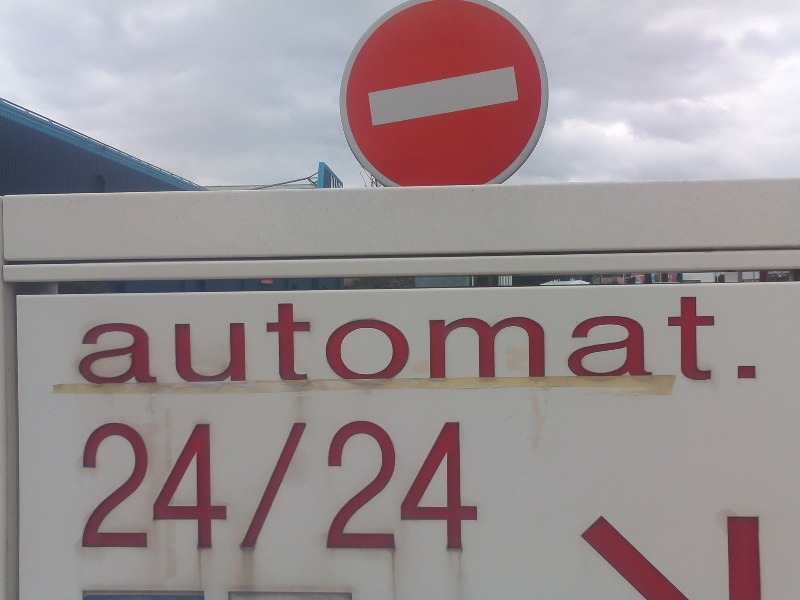text: (97, 420, 112, 553), (113, 420, 128, 553), (129, 420, 144, 553), (145, 420, 160, 553), (161, 420, 176, 553), (177, 420, 192, 553), (193, 420, 208, 553), (209, 420, 224, 553), (225, 420, 240, 553), (241, 420, 256, 553), (257, 420, 272, 553), (273, 420, 288, 553), (289, 420, 304, 553), (305, 420, 320, 553), (321, 420, 336, 553), (337, 420, 352, 553), (353, 420, 368, 553), (369, 420, 384, 553), (385, 420, 400, 553), (401, 420, 416, 553), (417, 420, 432, 553), (433, 420, 448, 553), (449, 420, 464, 553), (465, 420, 480, 553), (83, 420, 96, 553), (81, 295, 96, 388), (97, 295, 112, 388), (113, 295, 128, 388), (129, 295, 144, 388), (145, 295, 160, 388), (161, 295, 176, 388), (177, 295, 192, 388), (193, 295, 208, 388), (209, 295, 224, 388), (225, 295, 240, 388), (241, 295, 256, 388), (257, 295, 272, 388), (273, 295, 288, 388), (289, 295, 304, 388), (305, 295, 320, 388), (321, 295, 336, 388), (337, 295, 352, 388), (353, 295, 368, 388), (369, 295, 384, 388), (385, 295, 400, 388), (401, 295, 416, 388), (417, 295, 432, 388), (433, 295, 448, 388), (449, 295, 464, 388), (465, 295, 480, 388), (481, 295, 496, 388), (497, 295, 512, 388), (513, 295, 528, 388), (529, 295, 544, 388), (545, 295, 560, 388), (561, 295, 576, 388), (577, 295, 592, 388), (593, 295, 608, 388), (609, 295, 624, 388), (625, 295, 640, 388), (641, 295, 656, 388), (657, 295, 672, 388), (673, 295, 688, 388), (689, 295, 704, 388), (705, 295, 720, 388), (721, 295, 736, 388), (737, 295, 752, 388), (73, 295, 80, 388), (753, 295, 759, 388), (481, 420, 482, 553), (337, 173, 344, 189), (331, 173, 336, 189)
